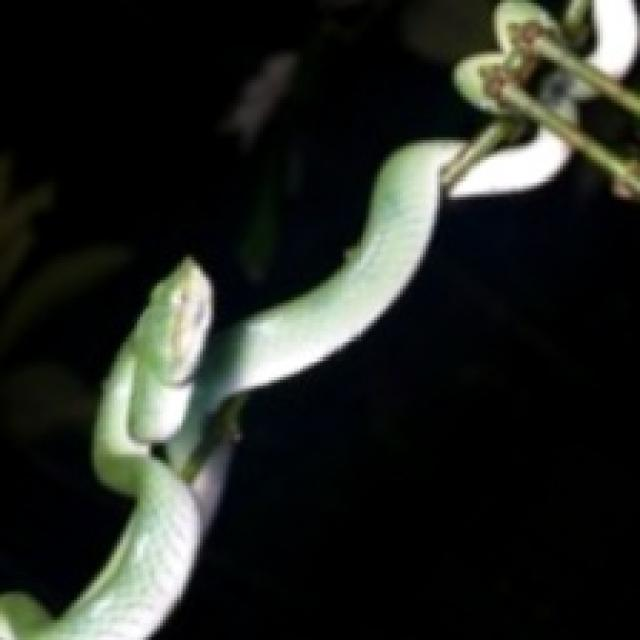north ph temple pitviper: (0, 141, 459, 640)
